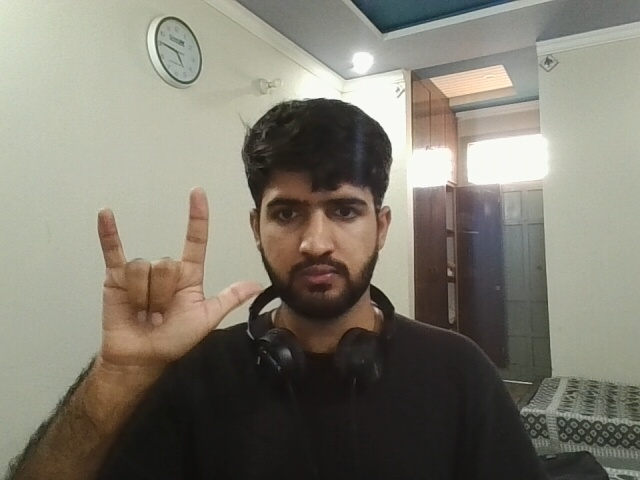I Love You: (87, 177, 266, 385)
